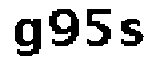5: (84, 7, 114, 49)
9: (47, 8, 81, 48)
g: (10, 16, 43, 59)
s: (119, 19, 147, 49)
